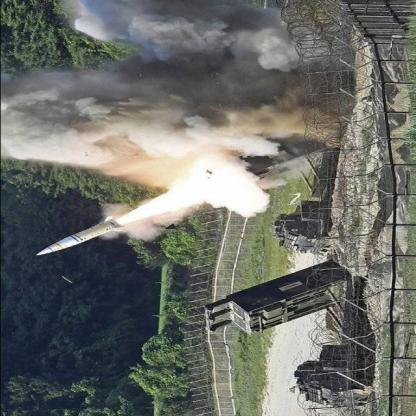MIL_TBM: (33, 213, 122, 261)
